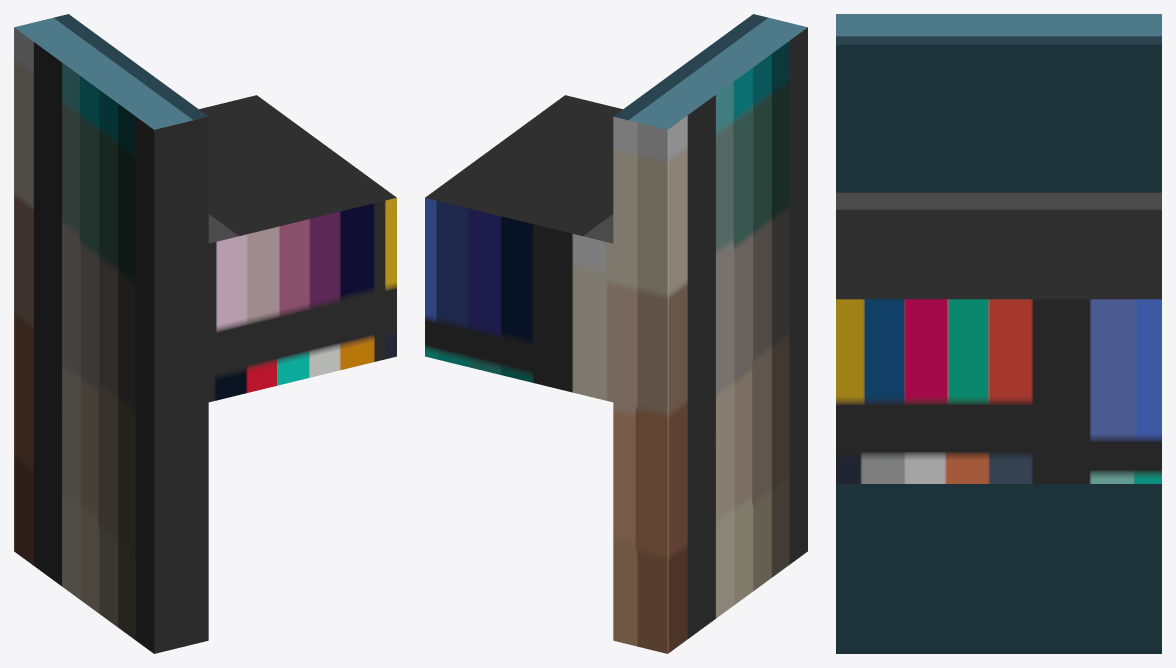
File: tile_1_1_3.gltf
The picture shows the model from 3 angles, left to right: view 1: azimuth 30°, elevation 25°; view 2: azimuth 150°, elevation 25°; view 3: azimuth 270°, elevation 25°; orthographic projection. The views are drawn at different scales.
Parts seen in each view (by area): view 1: arena.sides.high.008, arena.floor.main.002; view 2: arena.sides.high.008, arena.floor.main.002; view 3: arena.sides.high.008, arena.floor.main.002.
Part boxes in pixels (box(x1,y1,x2,y2)): arena.sides.high.008: box(14, 14, 208, 653); arena.floor.main.002: box(199, 95, 396, 402); arena.sides.high.008: box(613, 14, 807, 653); arena.floor.main.002: box(425, 95, 622, 402); arena.sides.high.008: box(836, 14, 1161, 653); arena.floor.main.002: box(836, 192, 1161, 483).
Size of the model in its own units: 8 by 16.5 by 8.
Materials: 1 (1 with a texture image).
